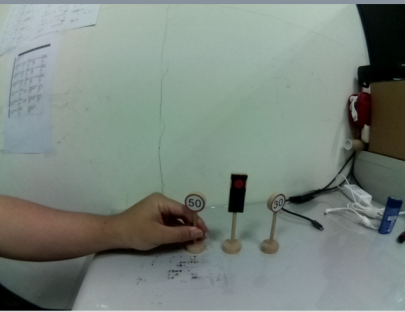Red: (227, 173, 249, 216)
Speed30: (266, 190, 286, 212)
Speed50: (185, 190, 207, 212)
